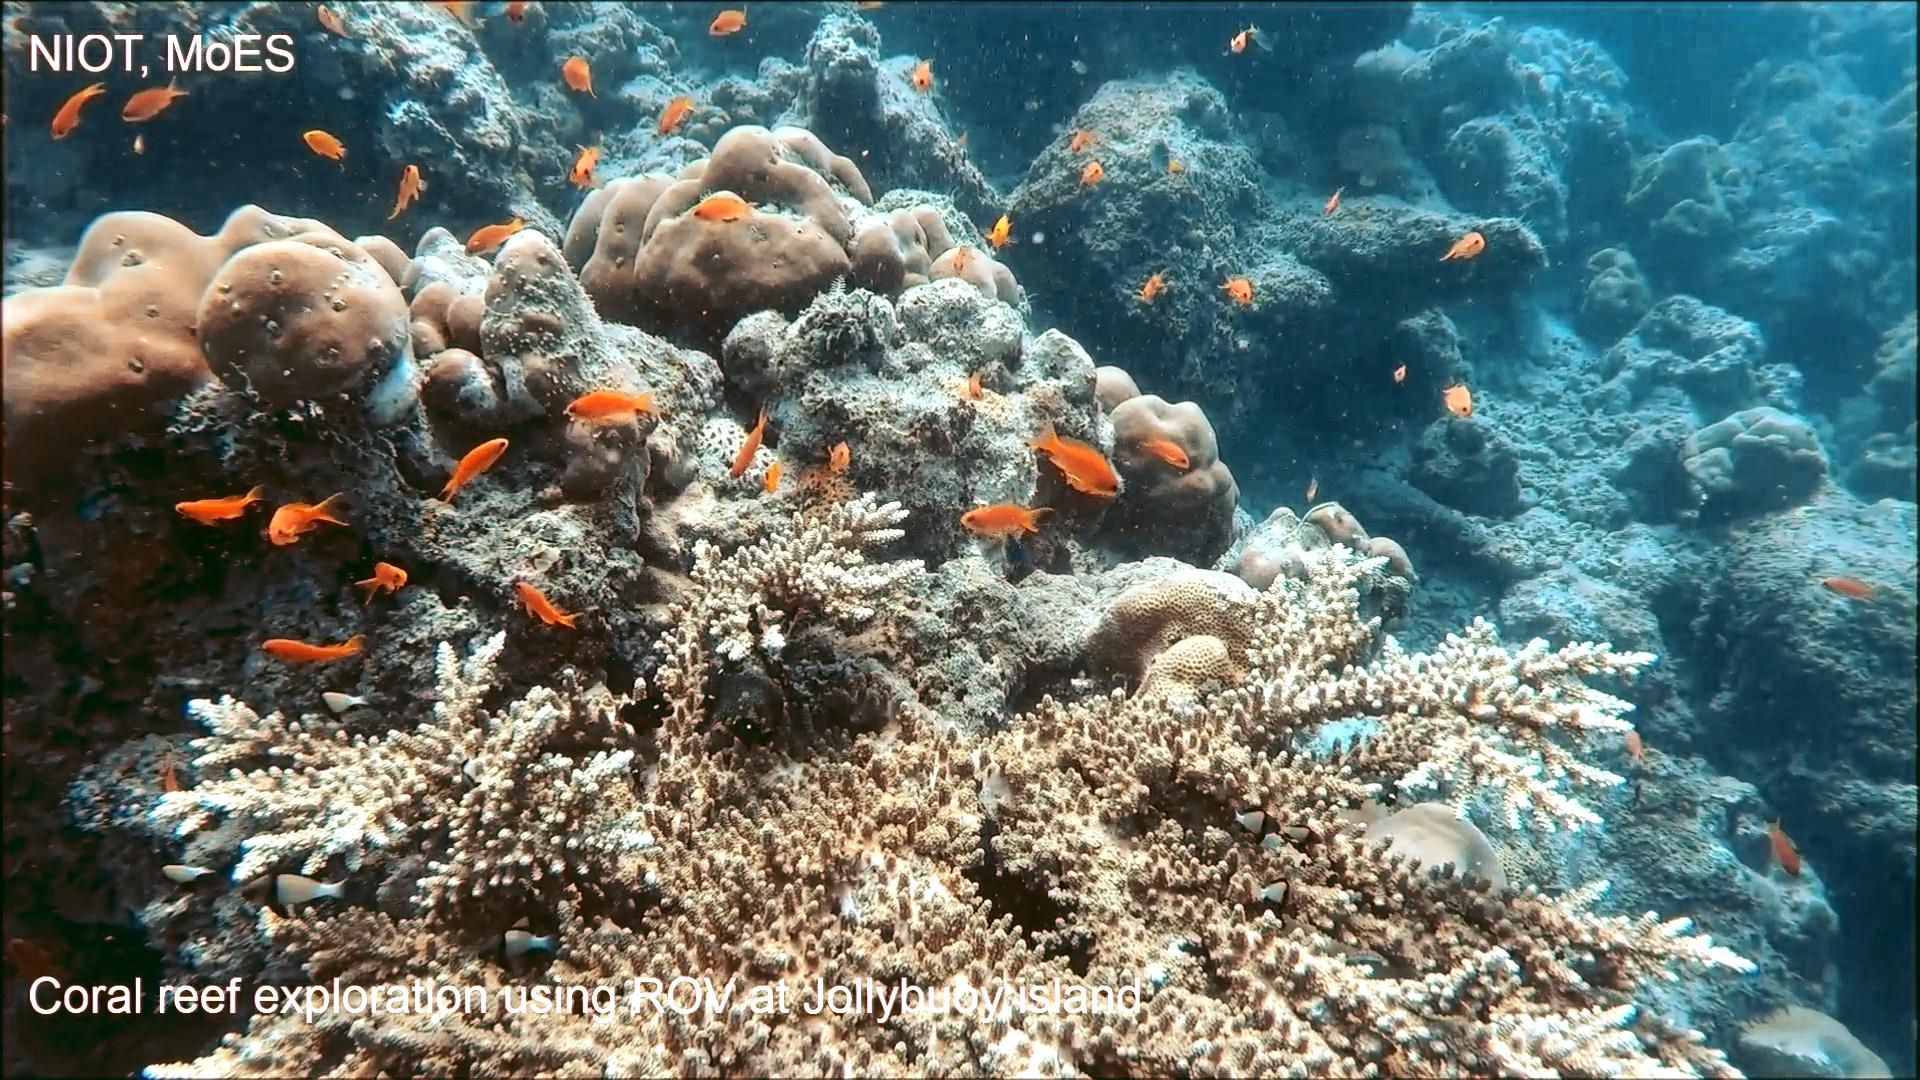Porites-Porites pukoensis: (0, 200, 419, 492), (541, 115, 1026, 324)
